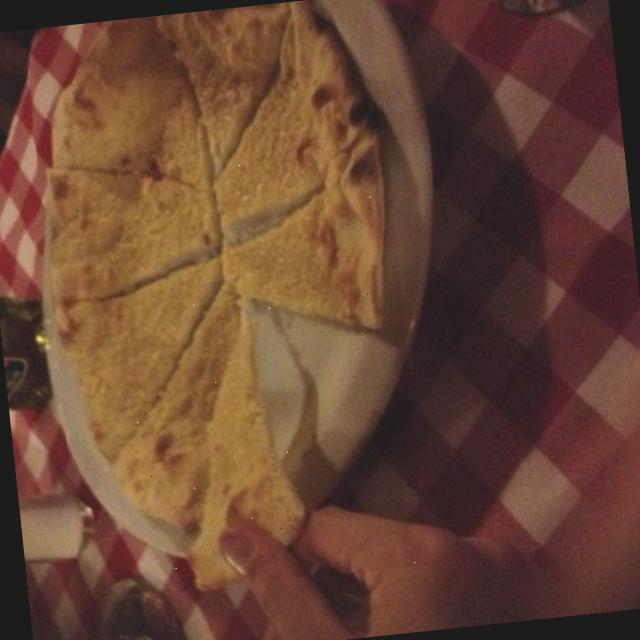pizza: (46, 0, 392, 587)
